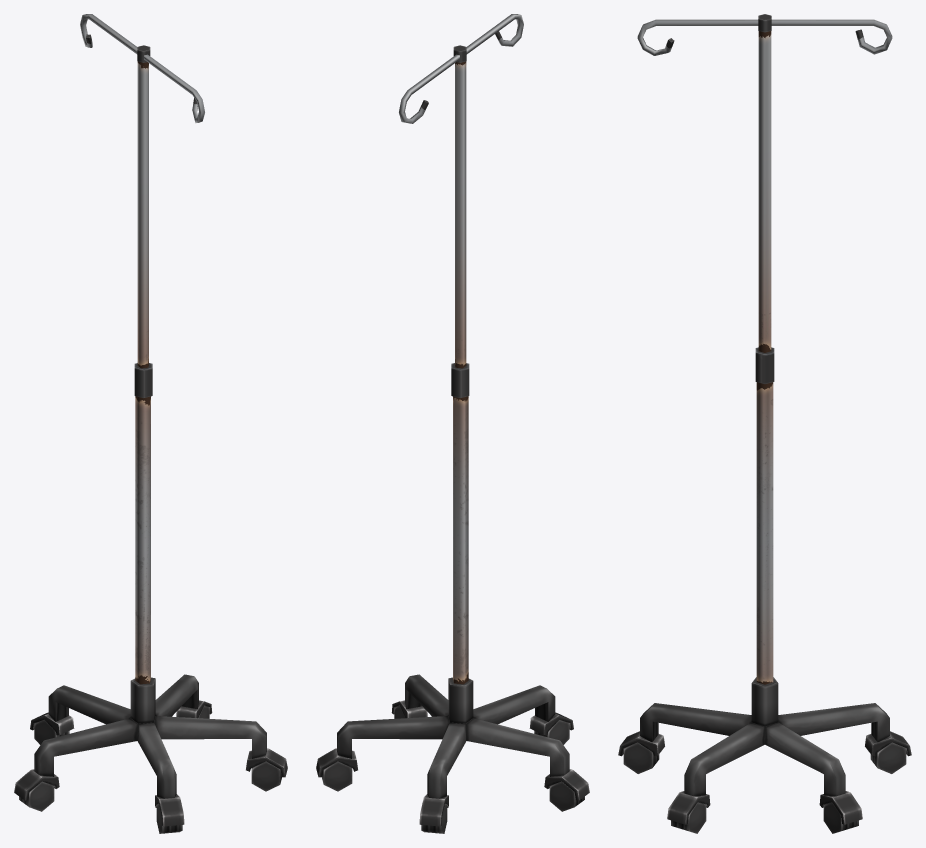
The model's file is ivStand_C.fbx.
3 views of the same model, side by side, from view 1: azimuth 30°, elevation 25°; view 2: azimuth 150°, elevation 25°; view 3: azimuth 270°, elevation 25° (orthographic). The views are drawn at different scales.
Parts seen in each view (by area): view 1: ivStand_C; view 2: ivStand_C; view 3: ivStand_C.
Part boxes in pixels (<box>): ivStand_C: <box>14,14,287,833</box>; ivStand_C: <box>316,14,589,833</box>; ivStand_C: <box>618,14,911,833</box>.
Size of the model in its own units: 64.06 by 195 by 67.36.
